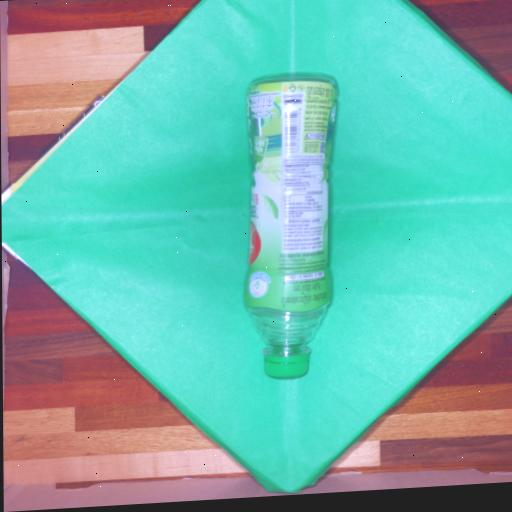bottle: (227, 62, 350, 385)
